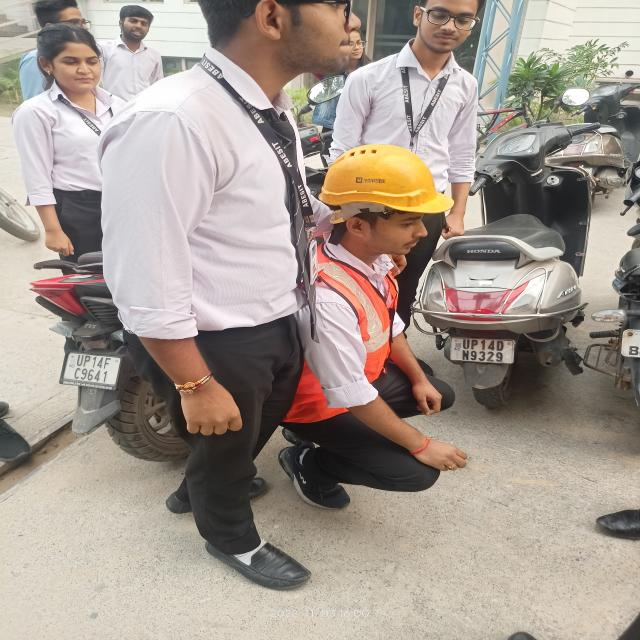safe: (289, 140, 469, 513)
unsafe: (123, 0, 348, 597), (357, 0, 492, 225), (12, 29, 128, 290)
